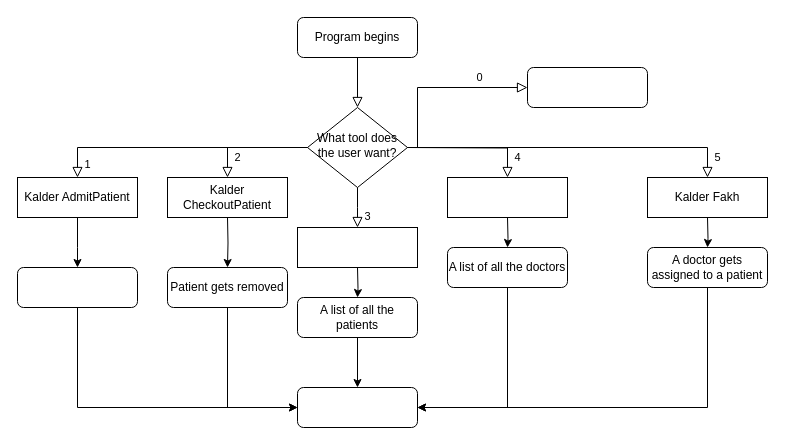
Some shapes in this 785 by 445 pixel diagram are drawn without their labels. Each missing label, with the centre of its shape:
Kalder ListDoctors: point 507,197
Kalder ListPatients: point 357,247
Name and Age of patient gets added: point 77,287
Restart program: point 357,407
Slut: point 587,87
